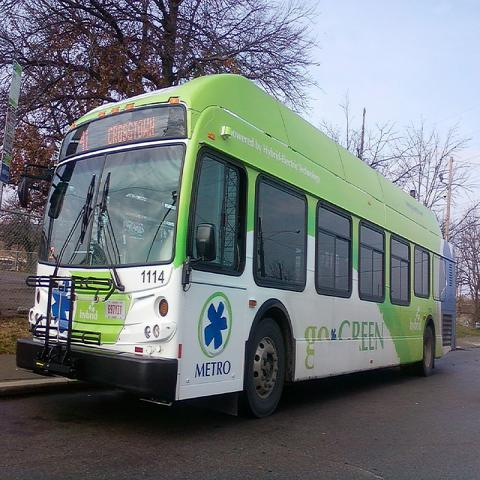bus: (17, 72, 459, 416)
